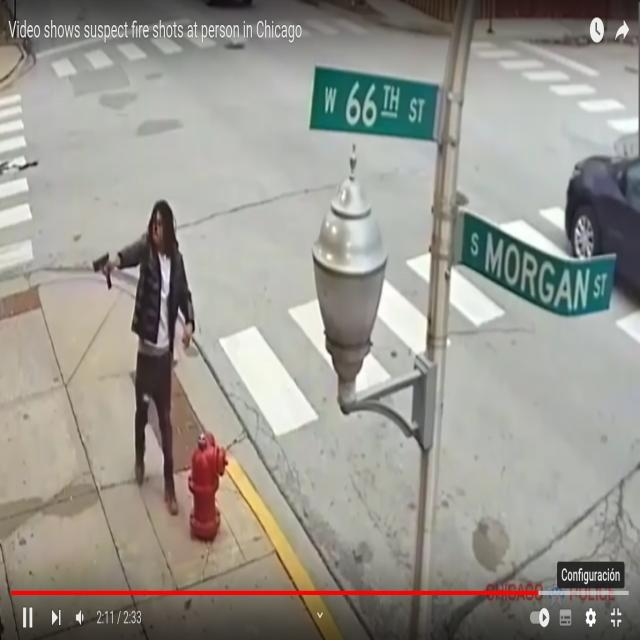Pistol: (93, 248, 110, 277)
